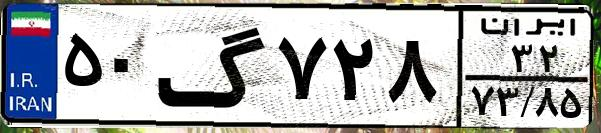0: (110, 28, 156, 98)
2: (330, 28, 385, 110), (537, 27, 568, 80)
3: (508, 27, 537, 80), (495, 70, 520, 125)
5: (57, 26, 110, 100), (560, 70, 590, 125)
7: (270, 28, 330, 110), (470, 70, 495, 125)
8: (385, 28, 445, 110), (535, 70, 560, 125)
گ: (156, 12, 270, 120)
